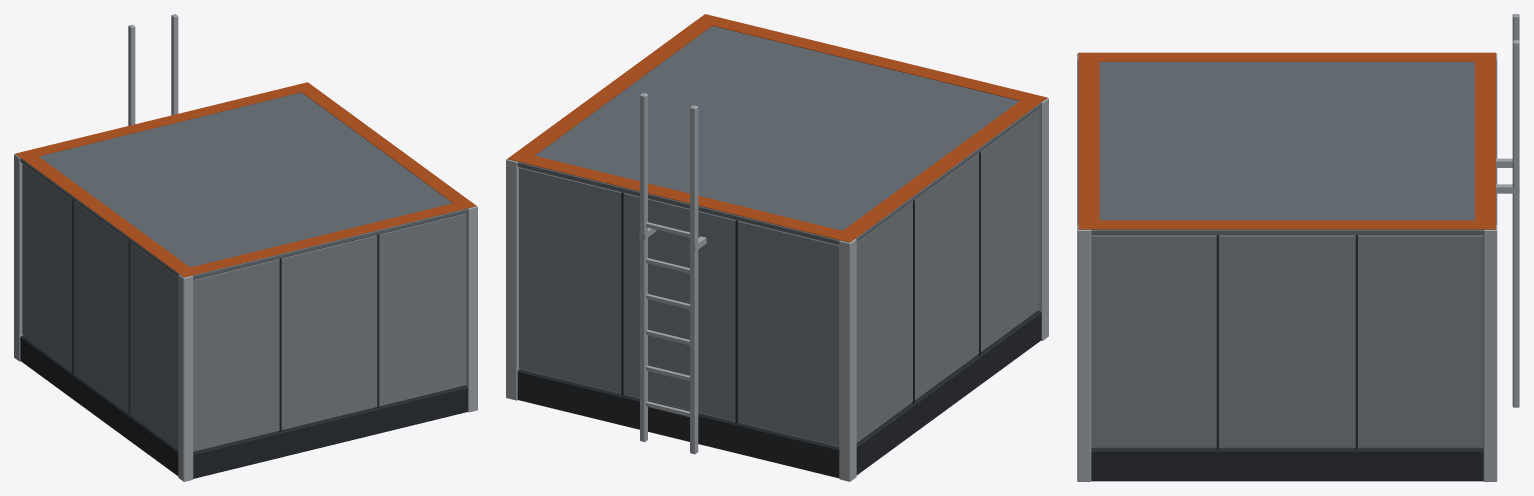
3 renders of one model, left to right at view 1: azimuth 30°, elevation 25°; view 2: azimuth 150°, elevation 25°; view 3: azimuth 270°, elevation 25°, orthographic. The views are drawn at different scales.
Parts seen in each view (by area): view 1: TY_PF_2; view 2: TY_PF_2; view 3: TY_PF_2.
Boxes of the visible parts, x1=… form: TY_PF_2: x1=14, y1=14, x2=477, y2=481; TY_PF_2: x1=506, y1=14, x2=1048, y2=481; TY_PF_2: x1=1077, y1=14, x2=1519, y2=481.
Size of the model in its own units: 3.02 by 2.9 by 3.18.
